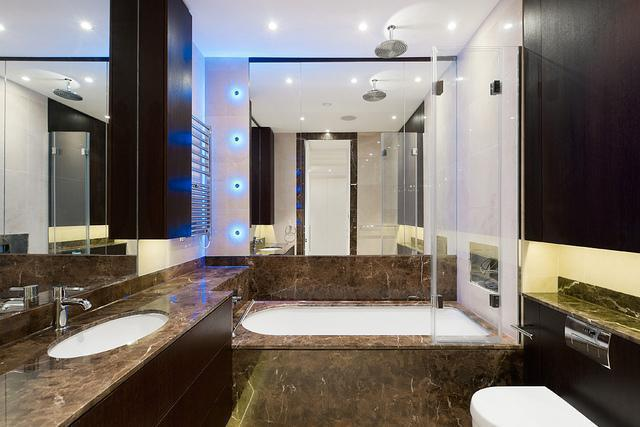Lavamanos: (46, 285, 166, 366)
Sanitario: (465, 375, 603, 426)
